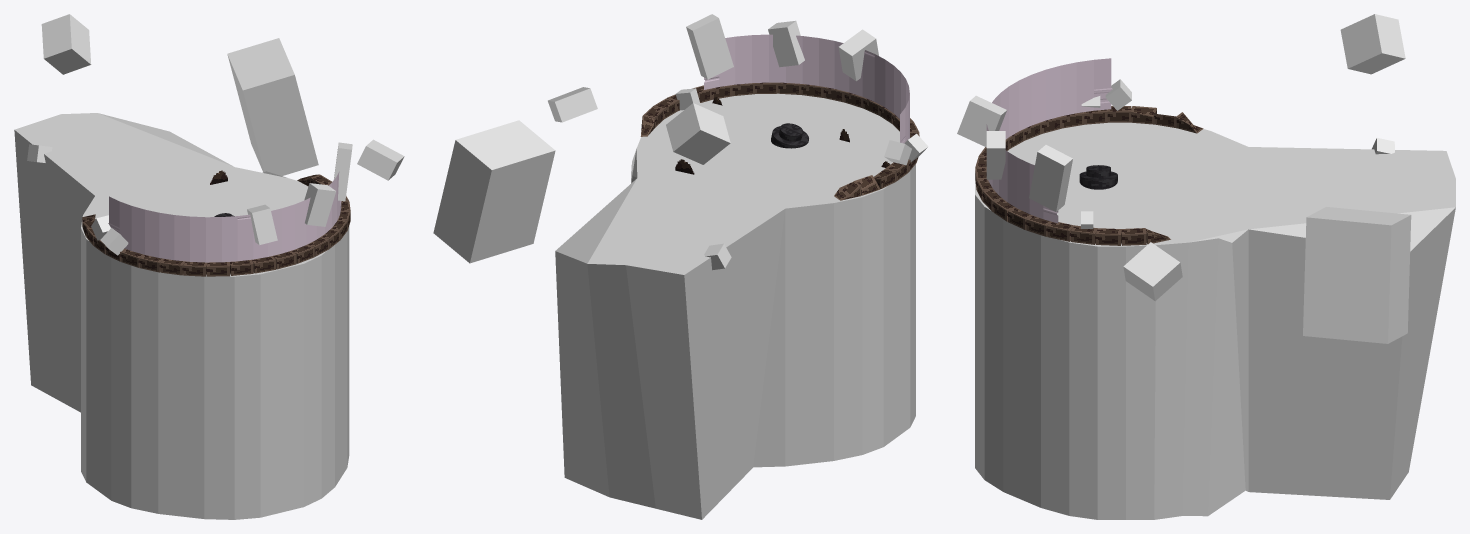
The model's file is restSite_01.fbx.
The picture shows the model from 3 angles, left to right: view 1: azimuth 30°, elevation 25°; view 2: azimuth 150°, elevation 25°; view 3: azimuth 270°, elevation 25°; orthographic projection. The views are drawn at different scales.
Parts seen in each view (by area): view 1: Bridge, Plane, Cube.008, Cube, Cube.010, Cube.002, Cube.003, Cube.006, Cube.004; view 2: Bridge, Cube.008, Plane, Cube, Cube.010, Cube.004, Cube.003, Cube.006, Cube.002; view 3: Bridge, Cube.008, Plane, Cube, Cube.010, Cube.002, Cube.004, Cube.006, Cube.003.
Part boxes in pixels (left/top/right/bottom): Bridge: left=14, top=113, right=349, bottom=519; Plane: left=108, top=171, right=341, bottom=262; Cube.008: left=227, top=38, right=318, bottom=175; Cube: left=82, top=174, right=350, bottom=276; Cube.010: left=41, top=14, right=91, bottom=74; Cube.002: left=357, top=139, right=404, bottom=180; Cube.003: left=304, top=183, right=335, bottom=226; Cube.006: left=247, top=204, right=277, bottom=244; Cube.004: left=334, top=142, right=352, bottom=201; Bridge: left=555, top=93, right=915, bottom=519; Cube.008: left=433, top=120, right=555, bottom=263; Plane: left=704, top=34, right=909, bottom=143; Cube: left=640, top=82, right=919, bottom=200; Cube.010: left=666, top=103, right=730, bottom=164; Cube.004: left=686, top=14, right=733, bottom=79; Cube.003: left=768, top=20, right=804, bottom=67; Cube.006: left=838, top=29, right=878, bottom=81; Cube.002: left=548, top=87, right=597, bottom=122; Bridge: left=975, top=122, right=1455, bottom=519; Cube.008: left=1303, top=207, right=1411, bottom=343; Plane: left=986, top=58, right=1112, bottom=223; Cube: left=975, top=106, right=1203, bottom=245; Cube.010: left=1340, top=14, right=1405, bottom=74; Cube.002: left=1123, top=242, right=1182, bottom=301; Cube.004: left=1029, top=145, right=1072, bottom=211; Cube.006: left=957, top=95, right=1006, bottom=147; Cube.003: left=986, top=131, right=1005, bottom=179.
Size of the model in its own units: 285 by 313 by 331.
